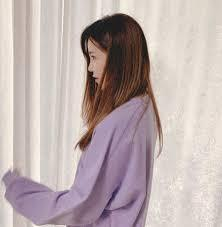sweater: (2, 91, 167, 227)
